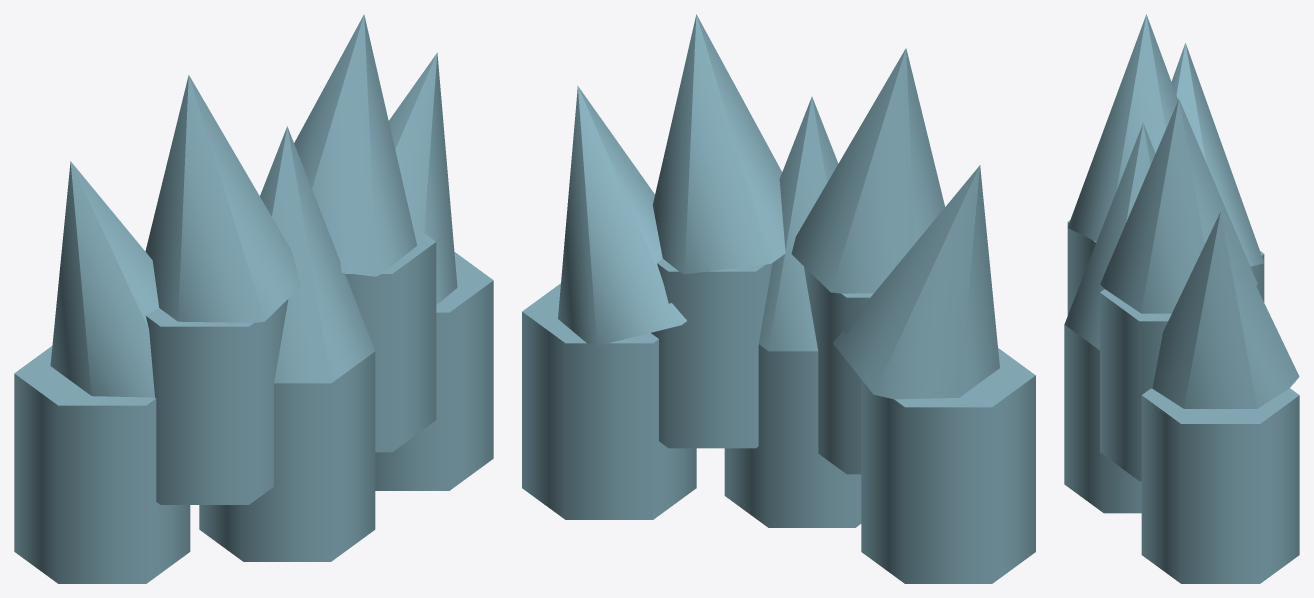
Rendered from crystal.glb.
3 renders of one model, left to right at view 1: azimuth 30°, elevation 25°; view 2: azimuth 150°, elevation 25°; view 3: azimuth 270°, elevation 25°, orthographic. The views are drawn at different scales.
Size of the model in its own units: 1.01 by 1.02 by 0.5066.
